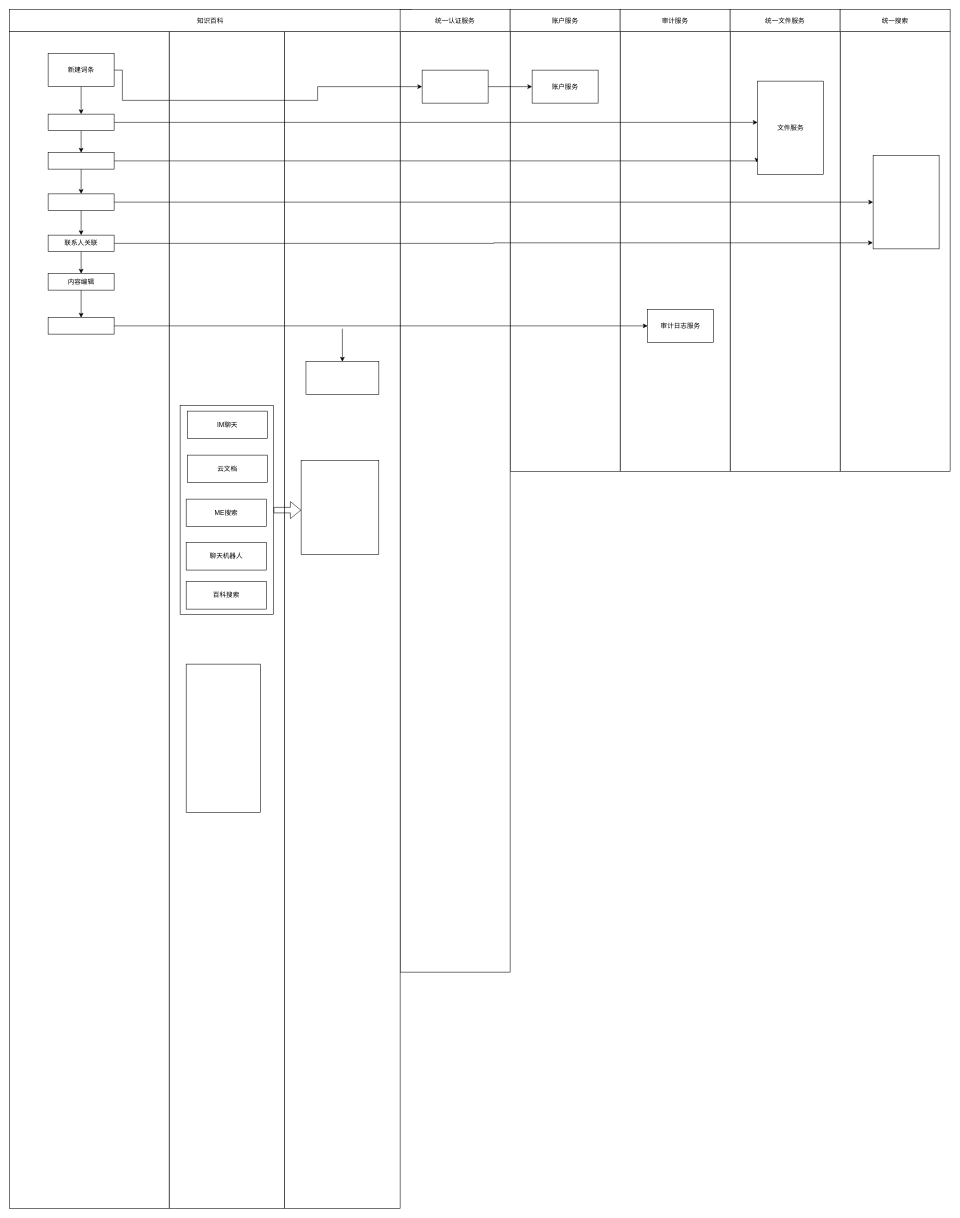
Some shapes in this 960 by 1218 pixel diagram are drawn without their labels. The shapes that lost their labels are listed below. From the top down, each one's centre as x and y in pixels, then its label:
(455,86): 用户认证
(81,122): 附件上传
(81,160): 图片上传
(81,201): 云文档关联
(906,202): 搜索服务
(81,325): 保存
(342,378): 词条同步
(340,507): 词条解析匹配
(223,738): 词条详情
